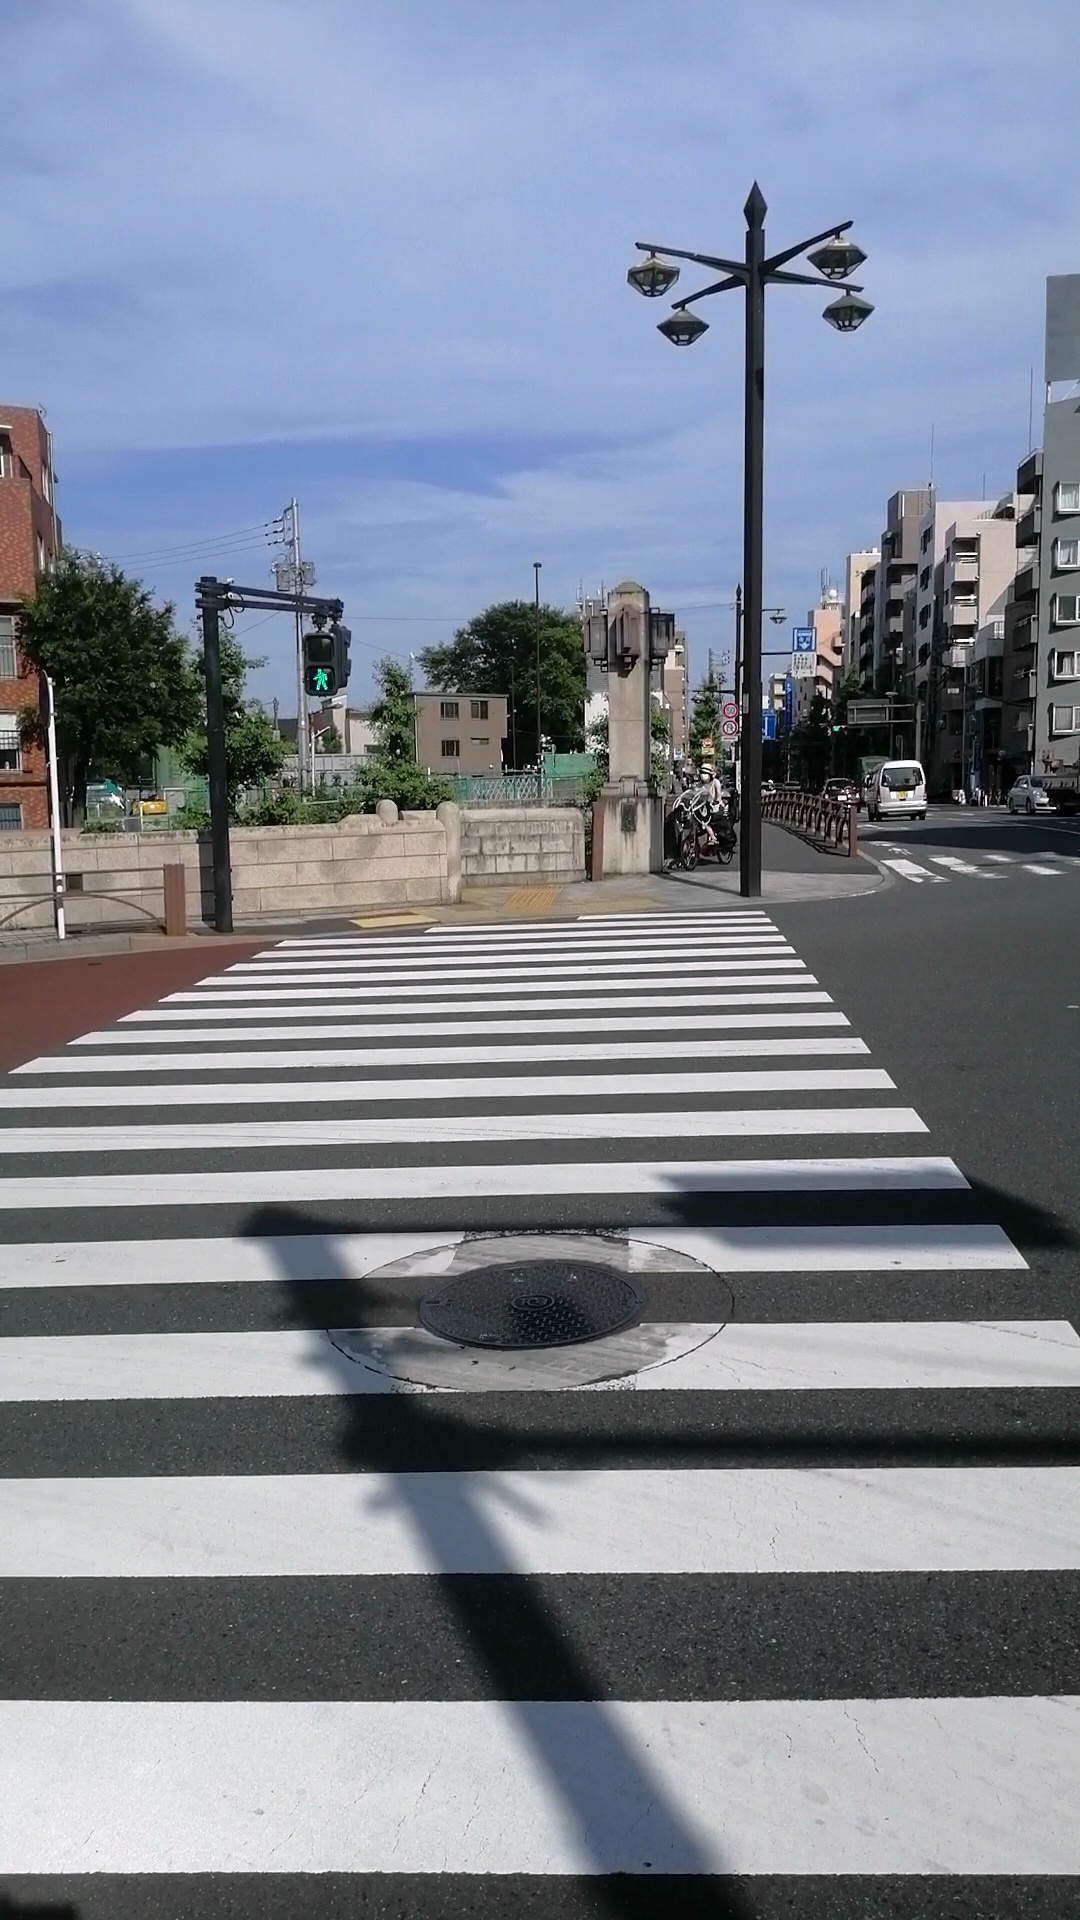green: (301, 632, 339, 695)
